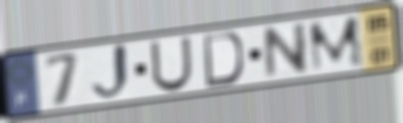7: (43, 50, 83, 108)
D: (201, 30, 247, 90)
J: (89, 40, 135, 105)
M: (306, 13, 367, 76)
N: (261, 20, 310, 82)
U: (148, 35, 194, 94)
